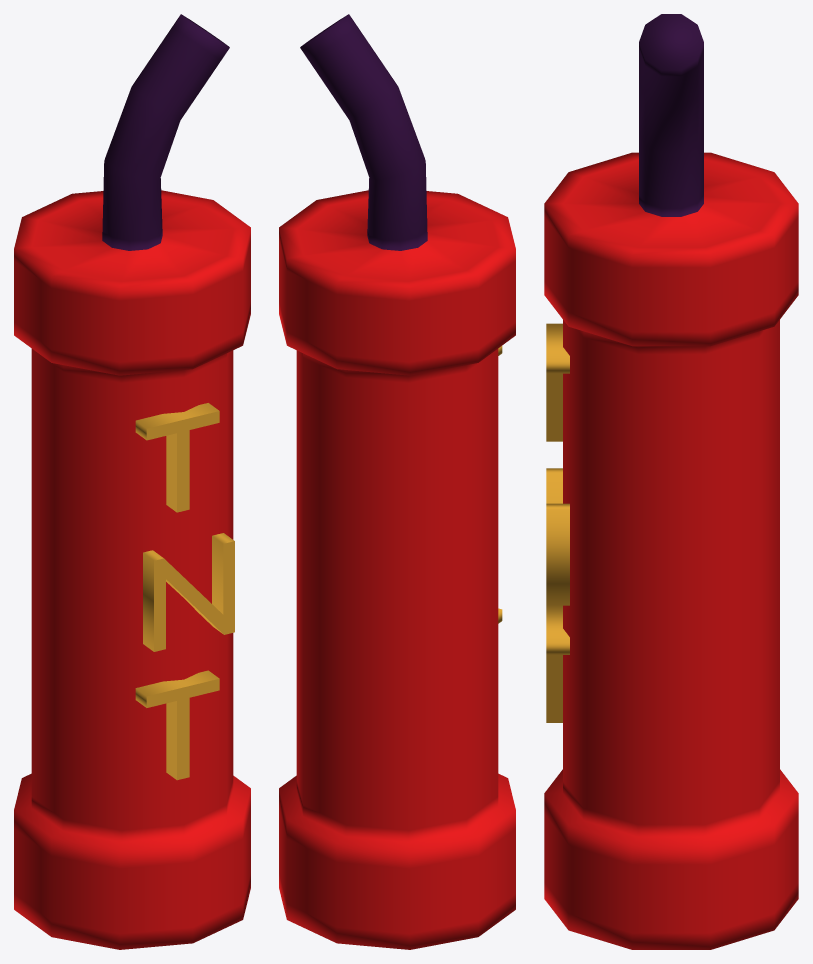
Rendered from TNT.fbx.
The picture shows the model from 3 angles, left to right: view 1: azimuth 30°, elevation 25°; view 2: azimuth 150°, elevation 25°; view 3: azimuth 270°, elevation 25°; orthographic projection. The views are drawn at different scales.
Visible parts, largest first — view 1: Cylinder.001, Text; view 2: Cylinder.001; view 3: Cylinder.001, Text.
Boxes of the visible parts, x1=… form: Cylinder.001: x1=14, y1=14, x2=250, y2=949; Text: x1=135, y1=403, x2=234, y2=780; Cylinder.001: x1=279, y1=14, x2=515, y2=949; Cylinder.001: x1=544, y1=14, x2=798, y2=949; Text: x1=546, y1=323, x2=569, y2=722.
Bounding box in the file's own units: 33.46 × 139 × 35.19.
